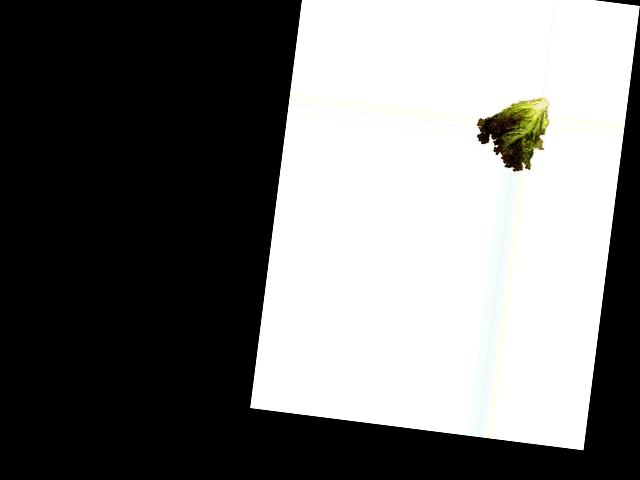lettuce: (473, 90, 550, 175)
